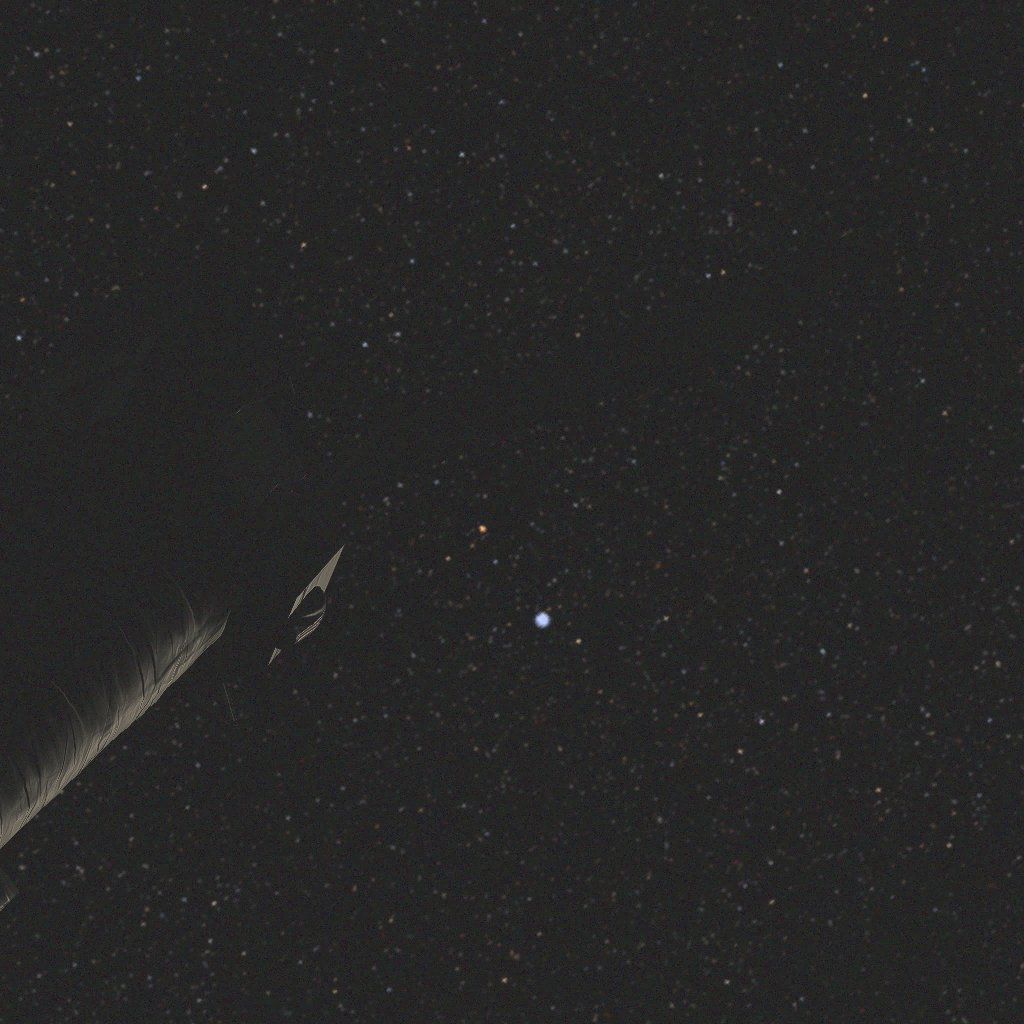xmm_newton: (0, 220, 885, 911)
